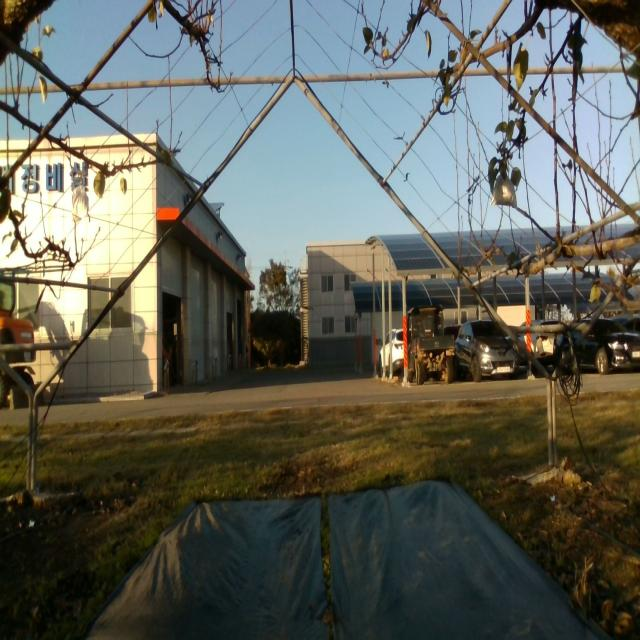pearbags: (490, 172, 520, 215), (71, 184, 90, 222)
